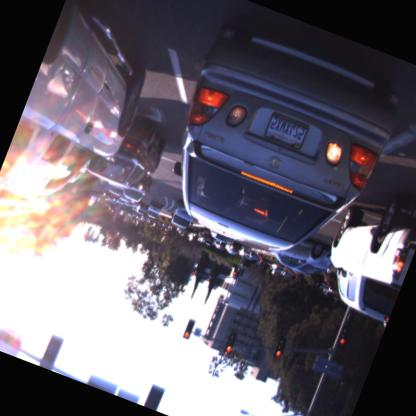trafficlight: (270, 335, 288, 362), (222, 329, 239, 356), (336, 324, 352, 348), (182, 316, 197, 340), (190, 266, 197, 276), (231, 266, 238, 276)
